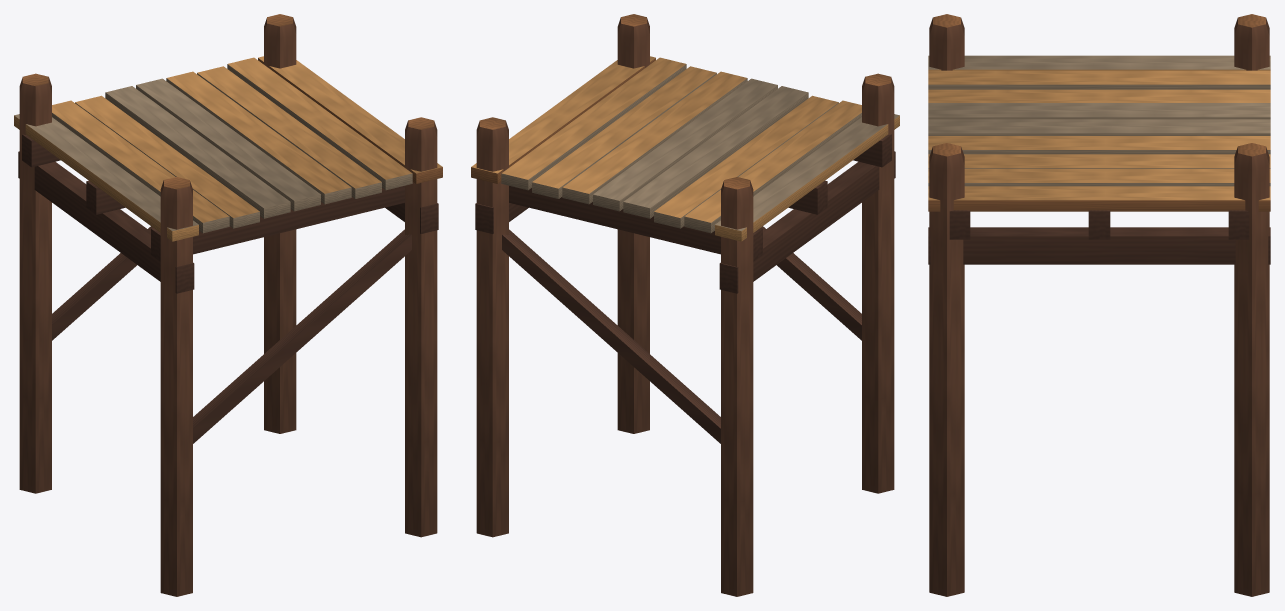
Rendered from dock_straight_01.glb.
The picture shows the model from 3 angles, left to right: view 1: azimuth 30°, elevation 25°; view 2: azimuth 150°, elevation 25°; view 3: azimuth 270°, elevation 25°; orthographic projection. The views are drawn at different scales.
Visible parts, largest first — view 1: dock_straight_01; view 2: dock_straight_01; view 3: dock_straight_01.
Part boxes in pixels (left/top/right/bottom): dock_straight_01: left=14, top=14, right=442, bottom=596; dock_straight_01: left=471, top=14, right=899, bottom=596; dock_straight_01: left=928, top=14, right=1270, bottom=596.
Size of the model in its own units: 2.21 by 3.1 by 2.19.
1 material, 1 textured.
